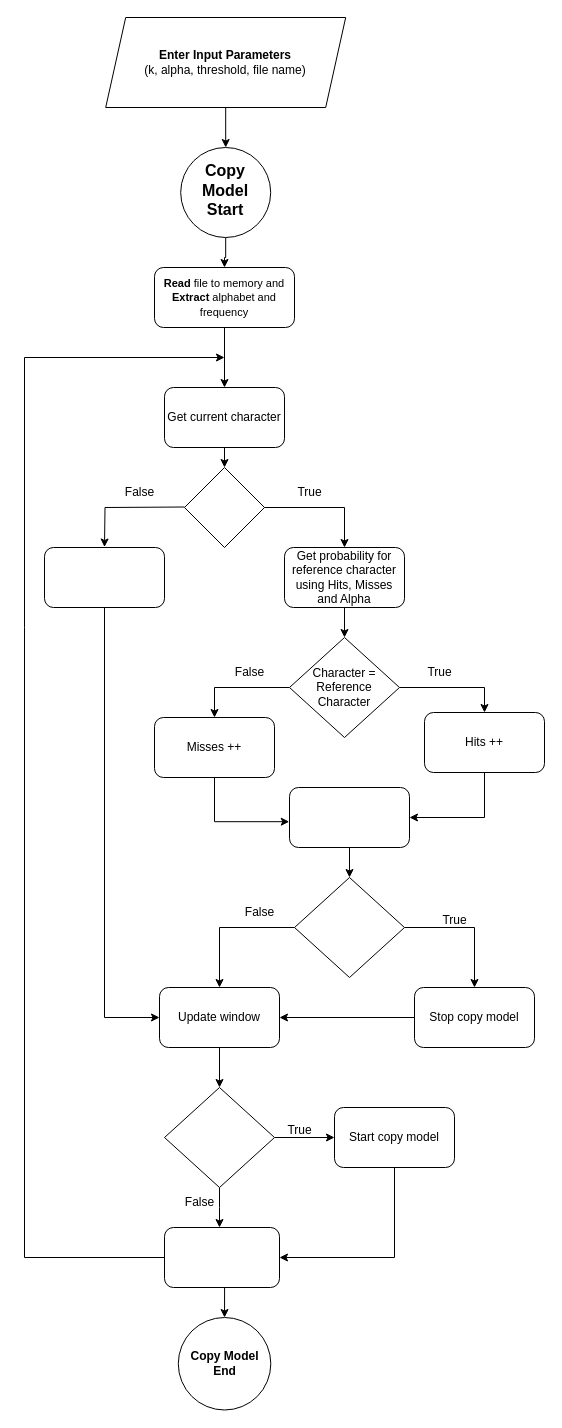
The diagram is 562 pixels wide and 1428 high, and some of its shapes have lost their labels. Here are the shapes that lost their labels. From the top down, the centre of each, then its label:
At (224,507): "Active copy model".
At (104,577): "Fall back Model - Use character frequency for probability".
At (349,817): "Calculate bits to represent information".
At (349,927): "If performance < threshold".
At (219,1137): "No Active Copy Model and Anchor exists".
At (222,1257): "Update window position in hash table".
